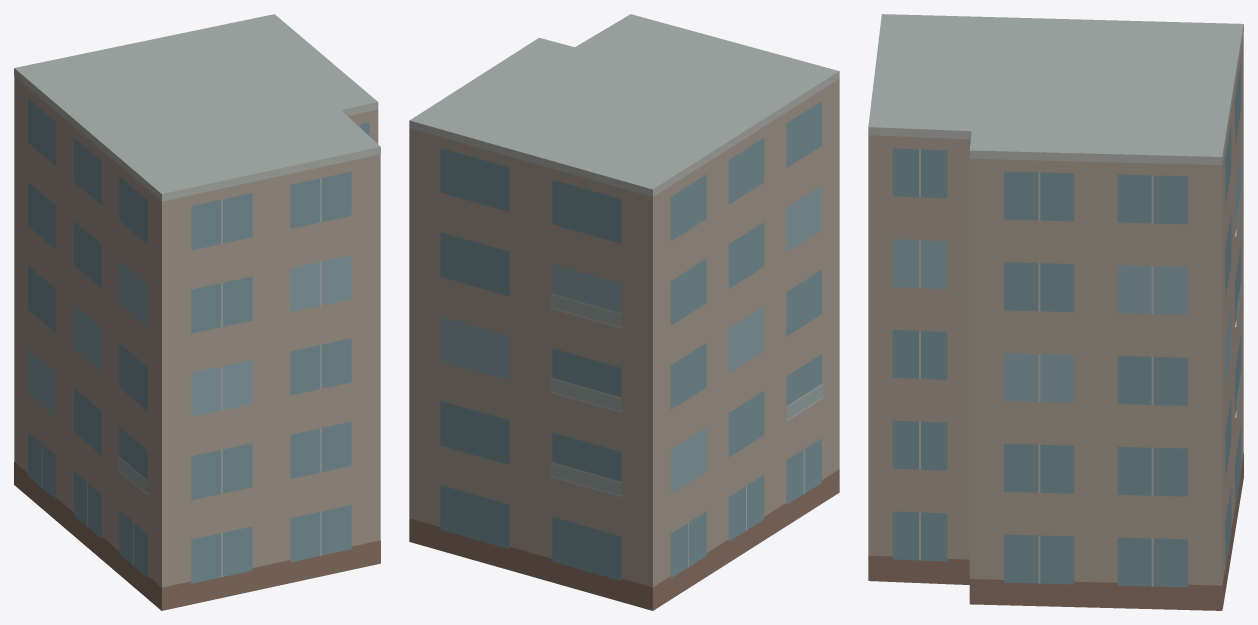
The model's file is survey-upis-32699043.glb.
3 views of the same model, side by side, from view 1: azimuth 30°, elevation 25°; view 2: azimuth 150°, elevation 25°; view 3: azimuth 270°, elevation 25° (orthographic). The views are drawn at different scales.
Parts seen in each view (by area): view 1: survey-upis-32699043.tmp; view 2: survey-upis-32699043.tmp; view 3: survey-upis-32699043.tmp.
Boxes of the visible parts, <box> form: survey-upis-32699043.tmp: <box>14,14,380,610</box>; survey-upis-32699043.tmp: <box>409,14,839,610</box>; survey-upis-32699043.tmp: <box>868,14,1243,610</box>.
Size of the model in its own units: 9.2 by 13.6 by 10.21.
